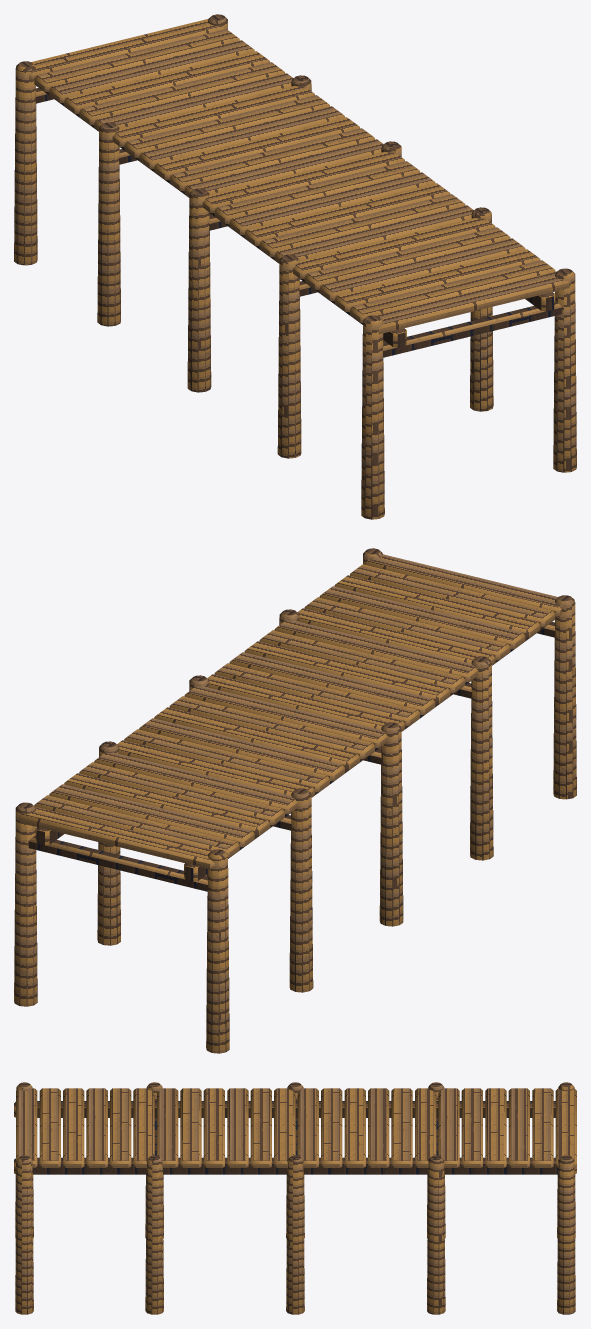
The model's file is med_pier_0.glb.
The picture shows the model from 3 angles, top to bottom: view 1: azimuth 30°, elevation 25°; view 2: azimuth 150°, elevation 25°; view 3: azimuth 270°, elevation 25°; orthographic projection. The views are drawn at different scales.
Parts seen in each view (by area): view 1: med_pier_1; view 2: med_pier_1; view 3: med_pier_1.
Boxes of the visible parts, x1,y1,x2,y2 form: med_pier_1: (14,14,576,519); med_pier_1: (14,548,576,1053); med_pier_1: (14,1082,576,1314).
Bounding box in the file's own units: 2.72 × 2.4 × 8.
Materials: 3 (3 with a texture image).
